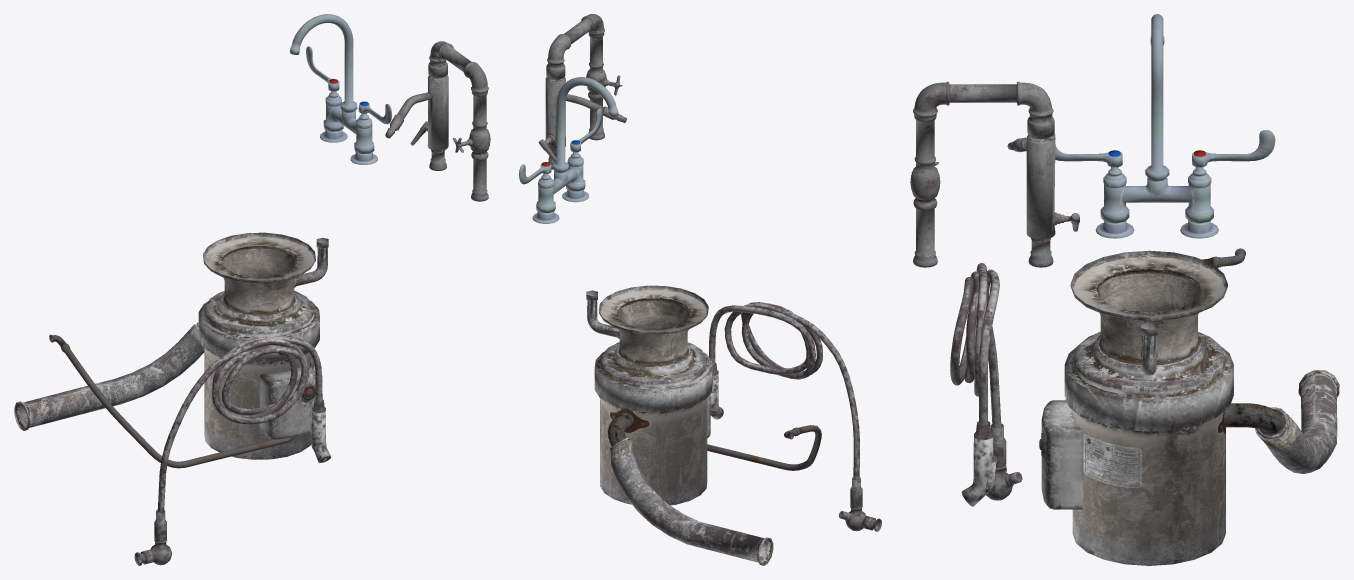
File: autopsy_1.obj
3 views of the same model, side by side, from view 1: azimuth 30°, elevation 25°; view 2: azimuth 150°, elevation 25°; view 3: azimuth 270°, elevation 25° (orthographic). The views are drawn at different scales.
Visible parts, largest first — view 1: uploads_files_2324068_AutposTable(OBJ); view 2: uploads_files_2324068_AutposTable(OBJ); view 3: uploads_files_2324068_AutposTable(OBJ).
Part boxes in pixels (<box>): uploads_files_2324068_AutposTable(OBJ): <box>14,14,490,565</box>; uploads_files_2324068_AutposTable(OBJ): <box>519,14,881,565</box>; uploads_files_2324068_AutposTable(OBJ): <box>910,14,1339,565</box>.
Bounding box in the file's own units: 3.28 × 4.36 × 2.7.
Materials: 1 (1 with a texture image).
